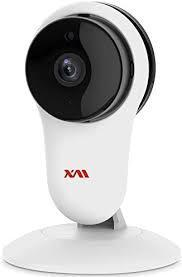maru: (25, 0, 152, 226)
